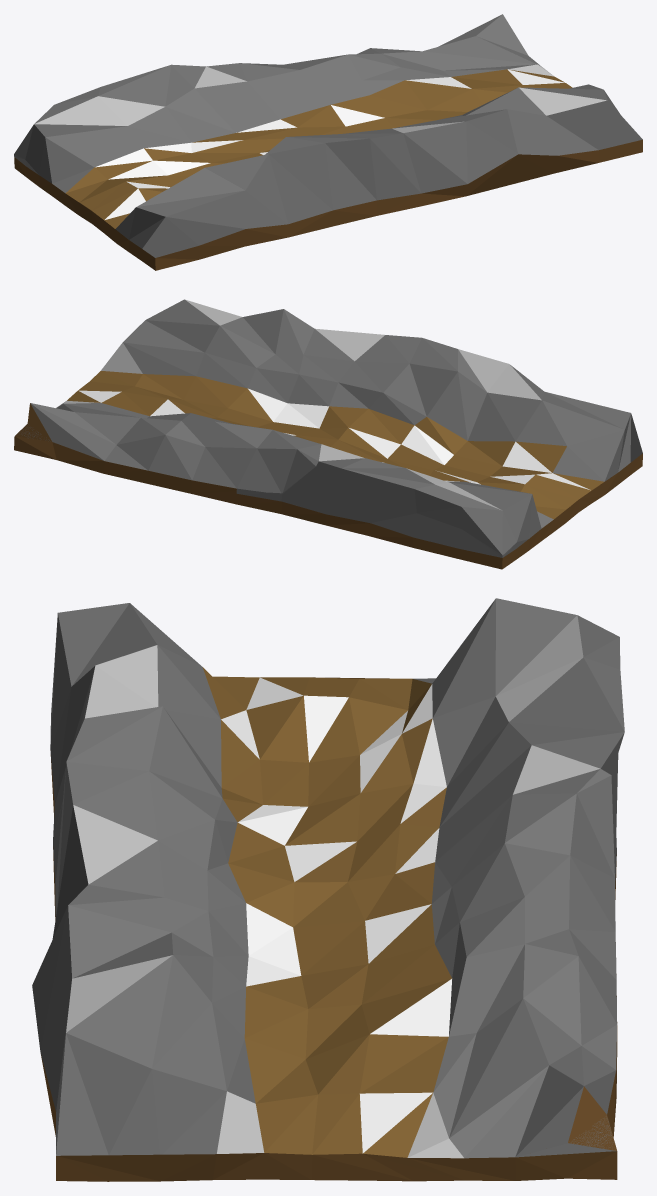
The model's file is PlaneSpring2.fbx.
The picture shows the model from 3 angles, top to bottom: view 1: azimuth 30°, elevation 25°; view 2: azimuth 150°, elevation 25°; view 3: azimuth 270°, elevation 25°; orthographic projection. The views are drawn at different scales.
Parts seen in each view (by area): view 1: PlaneSpring2.Cliffs, PlaneSpring2.Road, PlaneSpring2.Floor, PlaneSpring2.SnowCliffs, PlaneSpring2.Snow; view 2: PlaneSpring2.Cliffs, PlaneSpring2.Road, PlaneSpring2.Floor, PlaneSpring2.SnowCliffs, PlaneSpring2.Snow; view 3: PlaneSpring2.Cliffs, PlaneSpring2.Road, PlaneSpring2.Snow, PlaneSpring2.SnowCliffs, PlaneSpring2.Floor.
Boxes of the visible parts, x1=… form: PlaneSpring2.Cliffs: x1=14, y1=14, x2=642, y2=257; PlaneSpring2.Road: x1=65, y1=69, x2=572, y2=228; PlaneSpring2.Floor: x1=14, y1=139, x2=642, y2=270; PlaneSpring2.SnowCliffs: x1=34, y1=64, x2=606, y2=132; PlaneSpring2.Snow: x1=95, y1=69, x2=565, y2=219; PlaneSpring2.Cliffs: x1=17, y1=299, x2=642, y2=557; PlaneSpring2.Road: x1=67, y1=371, x2=604, y2=519; PlaneSpring2.Floor: x1=14, y1=403, x2=642, y2=569; PlaneSpring2.SnowCliffs: x1=56, y1=299, x2=541, y2=509; PlaneSpring2.Snow: x1=78, y1=388, x2=590, y2=490; PlaneSpring2.Cliffs: x1=32, y1=598, x2=624, y2=1158; PlaneSpring2.Road: x1=202, y1=667, x2=451, y2=1157; PlaneSpring2.Snow: x1=221, y1=677, x2=451, y2=1153; PlaneSpring2.SnowCliffs: x1=66, y1=615, x2=600, y2=1158; PlaneSpring2.Floor: x1=40, y1=677, x2=617, y2=1181.
Size of the model in its own units: 40509 by 6383 by 21081.
